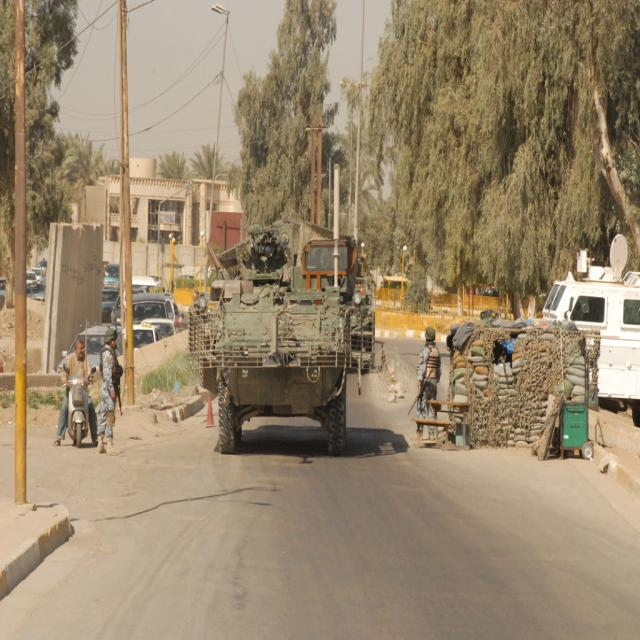Weapon: (107, 348, 141, 431), (255, 227, 288, 280), (408, 369, 432, 436)
